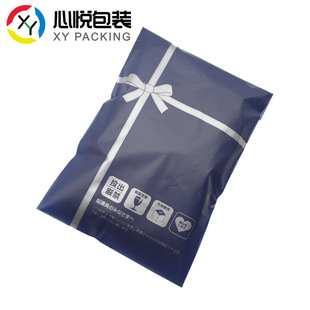Parcel: (38, 28, 272, 285)
